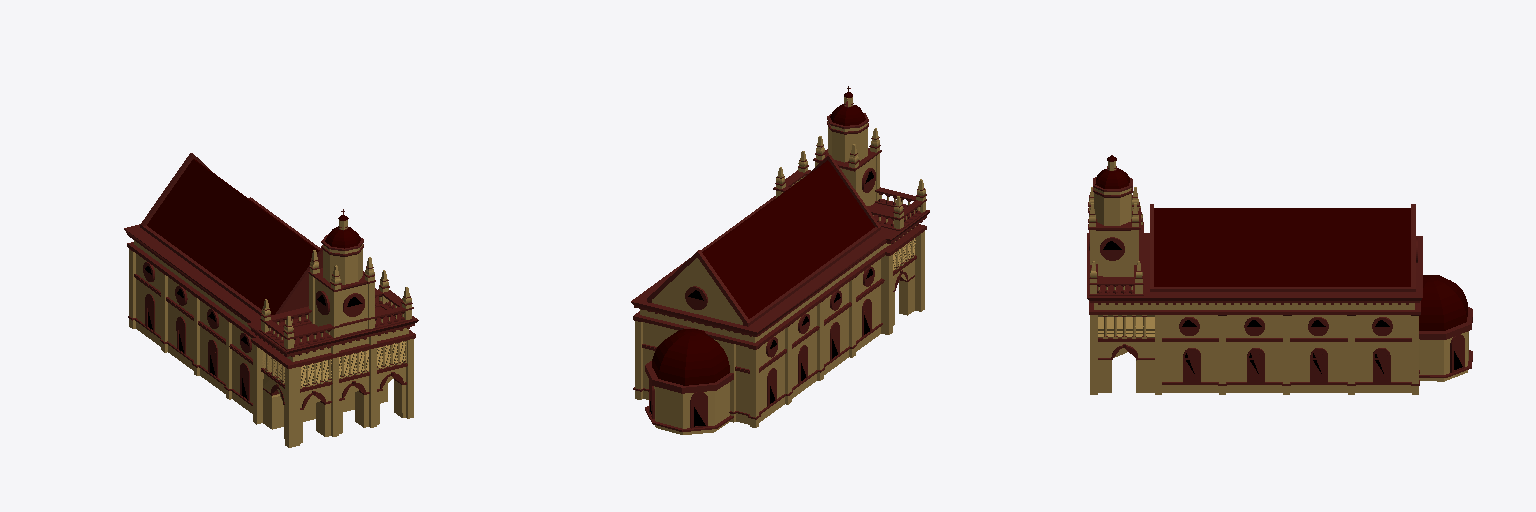
File: real.obj
The picture shows the model from 3 angles: view 1: azimuth 30°, elevation 25°; view 2: azimuth 150°, elevation 25°; view 3: azimuth 270°, elevation 25°; orthographic projection.
Visible parts, largest first — view 1: Cube.005_Cube.006, Cube.112_Cube.057, Cube.022_Cube.041, Cube.024_Cube.052, Cube.010_Cube.017, Cube.015_Cube.043, Cube.014_Cube.042, Cube.002, Cube.007_Cube.009, Circle.004_Circle.026, Cube.004, Cube.018_Cube.032 (+3 smaller); view 2: Cube.005_Cube.006, Cube.112_Cube.057, Cube.022_Cube.041, Cube.024_Cube.052, Sphere, Cube.106_Cube.016, Circle, Cube.015_Cube.043, Cube.002, Circle.004_Circle.026, Cube.010_Cube.017, Circle.001 (+6 smaller); view 3: Cube.005_Cube.006, Cube.112_Cube.057, Cube.024_Cube.052, Cube.014_Cube.042, Sphere, Cube.015_Cube.043, Cube.002, Cube.010_Cube.017, Circle, Circle.004_Circle.026, Cube.018_Cube.032, Cube.001 (+8 smaller).
Boxes of the visible parts, <box> form: Cube.005_Cube.006: <box>147,159,319,314</box>; Cube.112_Cube.057: <box>134,240,408,443</box>; Cube.022_Cube.041: <box>129,249,299,447</box>; Cube.024_Cube.052: <box>124,197,418,353</box>; Cube.010_Cube.017: <box>309,274,374,337</box>; Cube.015_Cube.043: <box>127,242,415,368</box>; Cube.014_Cube.042: <box>331,335,413,436</box>; Cube.002: <box>140,153,308,323</box>; Cube.007_Cube.009: <box>260,289,413,339</box>; Circle.004_Circle.026: <box>323,244,362,284</box>; Cube.004: <box>275,248,322,314</box>; Cube.018_Cube.032: <box>134,274,406,392</box>; Cube.005_Cube.006: <box>702,160,874,318</box>; Cube.112_Cube.057: <box>640,226,915,424</box>; Cube.022_Cube.041: <box>750,231,924,427</box>; Cube.024_Cube.052: <box>631,183,929,334</box>; Sphere: <box>652,329,729,385</box>; Cube.106_Cube.016: <box>652,258,742,324</box>; Circle: <box>654,382,729,434</box>; Cube.015_Cube.043: <box>633,224,926,349</box>; Cube.002: <box>647,227,880,326</box>; Circle.004_Circle.026: <box>828,122,867,162</box>; Cube.010_Cube.017: <box>815,153,879,205</box>; Circle.001: <box>645,361,733,393</box>; Cube.005_Cube.006: <box>1154,208,1410,286</box>; Cube.112_Cube.057: <box>1094,303,1414,392</box>; Cube.024_Cube.052: <box>1087,233,1422,300</box>; Cube.014_Cube.042: <box>1090,315,1418,394</box>; Sphere: <box>1419,275,1467,330</box>; Cube.015_Cube.043: <box>1089,301,1420,314</box>; Cube.002: <box>1150,204,1415,291</box>; Cube.010_Cube.017: <box>1090,230,1138,276</box>; Circle: <box>1419,331,1468,381</box>; Circle.004_Circle.026: <box>1094,188,1131,225</box>; Cube.018_Cube.032: <box>1098,338,1411,341</box>; Cube.001: <box>1090,301,1419,302</box>.
Bounding box in the file's own units: 2.28 × 3.54 × 5.76.